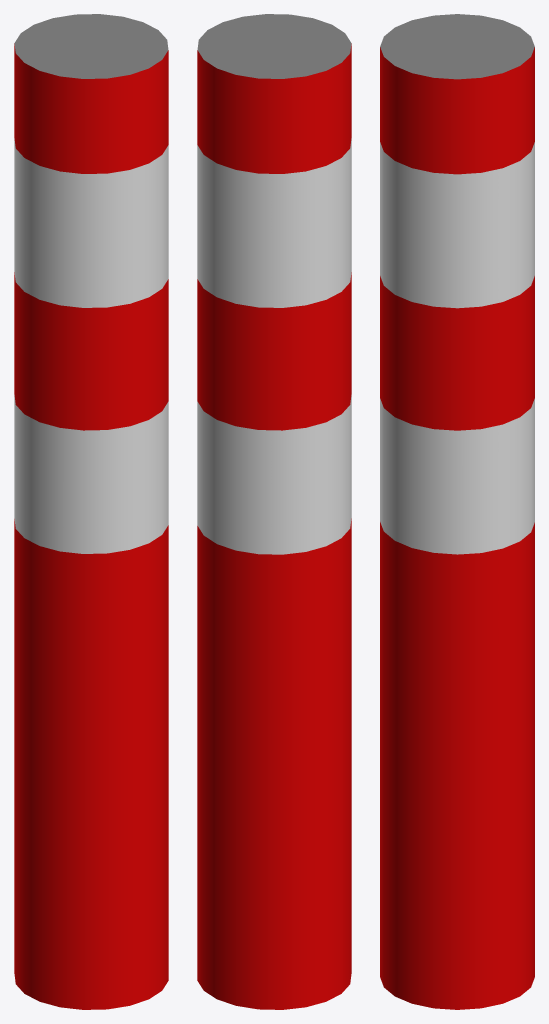
Rendered from engel.obj.
3 renders of one model, left to right at view 1: azimuth 30°, elevation 25°; view 2: azimuth 150°, elevation 25°; view 3: azimuth 270°, elevation 25°, orthographic.
Parts seen in each view (by area): view 1: pCylinder1; view 2: pCylinder1; view 3: pCylinder1.
Boxes of the visible parts, bbox=[...] form: pCylinder1: bbox=[14, 14, 168, 1009]; pCylinder1: bbox=[197, 14, 351, 1009]; pCylinder1: bbox=[380, 14, 534, 1009].
Bounding box in the file's own units: 10.09 × 66.92 × 10.09.
